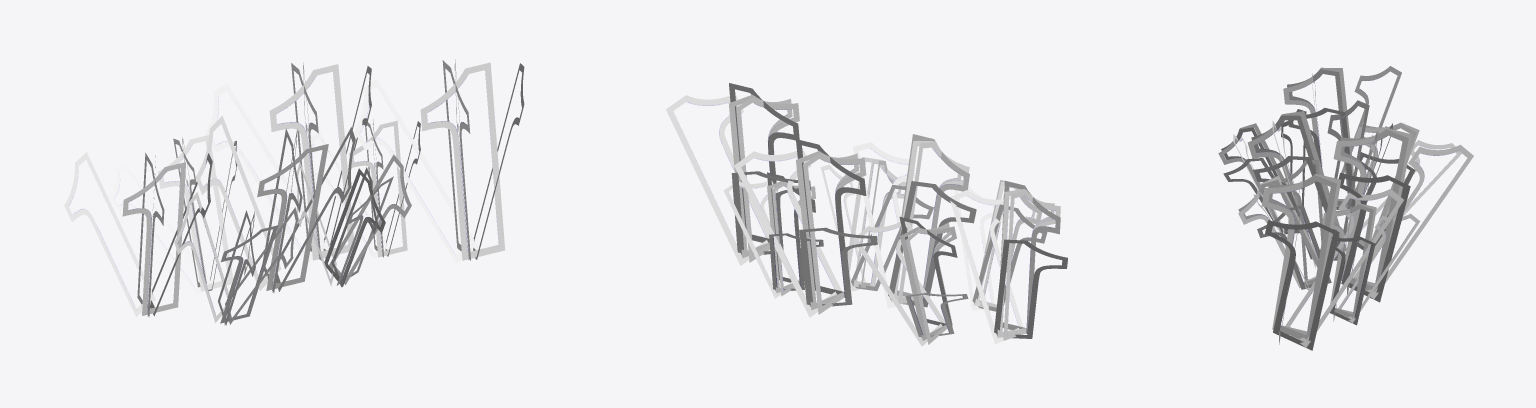
The model's file is Grass_1.fbx.
3 views of the same model, side by side, from view 1: azimuth 30°, elevation 25°; view 2: azimuth 150°, elevation 25°; view 3: azimuth 270°, elevation 25° (orthographic). The views are drawn at different scales.
Parts seen in each view (by area): view 1: Grass_1; view 2: Grass_1; view 3: Grass_1.
Boxes of the visible parts, <box> form: Grass_1: <box>64,59,524,325</box>; Grass_1: <box>666,83,1067,346</box>; Grass_1: <box>1218,66,1473,350</box>.
Bounding box in the file's own units: 80.92 × 38.92 × 52.4.
